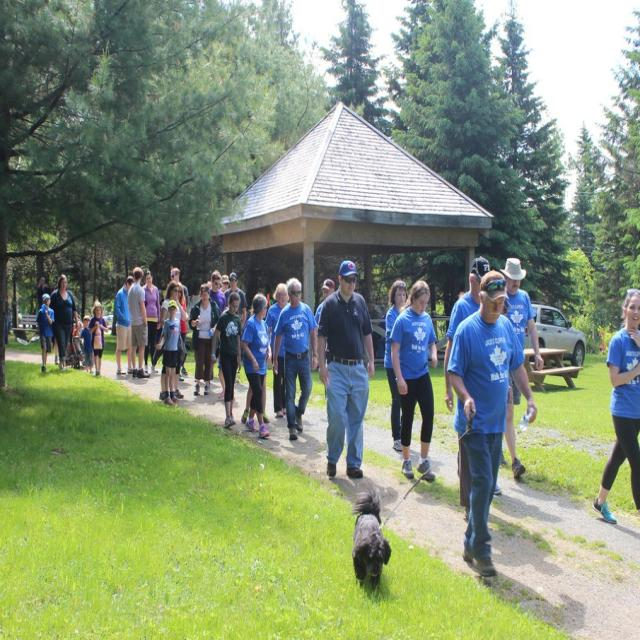body: (444, 267, 540, 578), (442, 255, 492, 527), (316, 258, 376, 479), (590, 284, 640, 526), (499, 255, 545, 480), (389, 277, 439, 483), (270, 276, 319, 442), (382, 279, 411, 453), (240, 290, 273, 440), (210, 290, 243, 430), (238, 294, 272, 426), (187, 282, 222, 396), (158, 278, 188, 402), (264, 282, 290, 419), (154, 297, 182, 407), (50, 273, 80, 371), (126, 264, 151, 378), (168, 267, 191, 377), (113, 275, 136, 376), (314, 278, 337, 372), (141, 269, 161, 374), (49, 296, 82, 356), (34, 294, 56, 374), (88, 300, 110, 378), (222, 271, 248, 332), (357, 274, 386, 318), (177, 282, 188, 382), (79, 315, 96, 374), (207, 268, 227, 314), (4, 296, 12, 348), (36, 276, 47, 309), (199, 277, 212, 297), (219, 273, 231, 293), (155, 287, 165, 306), (578, 299, 586, 320), (264, 288, 272, 306), (455, 288, 465, 302)
